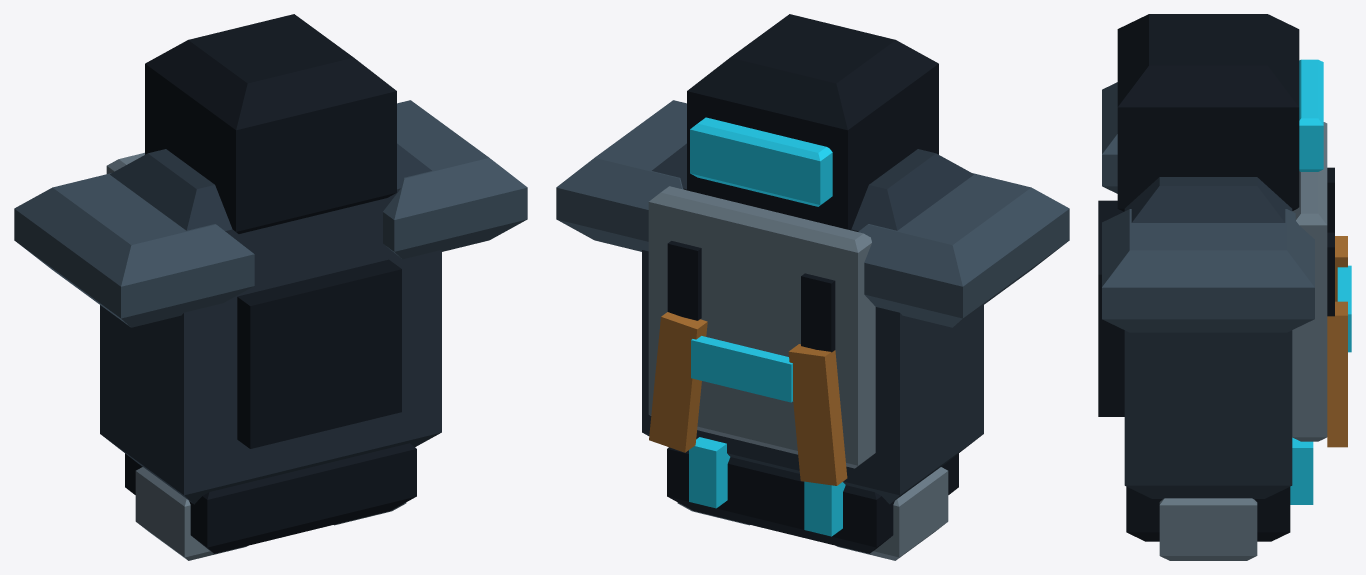
Rendered from vanguard_body.obj.
3 views of the same model, side by side, from view 1: azimuth 30°, elevation 25°; view 2: azimuth 150°, elevation 25°; view 3: azimuth 270°, elevation 25° (orthographic).
Visible parts, largest first — view 1: vanguard_armored_chassis; view 2: vanguard_armored_chassis; view 3: vanguard_armored_chassis.
Boxes of the visible parts, <box> form: vanguard_armored_chassis: <box>14,14,527,560</box>; vanguard_armored_chassis: <box>556,14,1069,560</box>; vanguard_armored_chassis: <box>1098,14,1351,560</box>.
Size of the model in its own units: 1.34 by 1.49 by 0.725.
